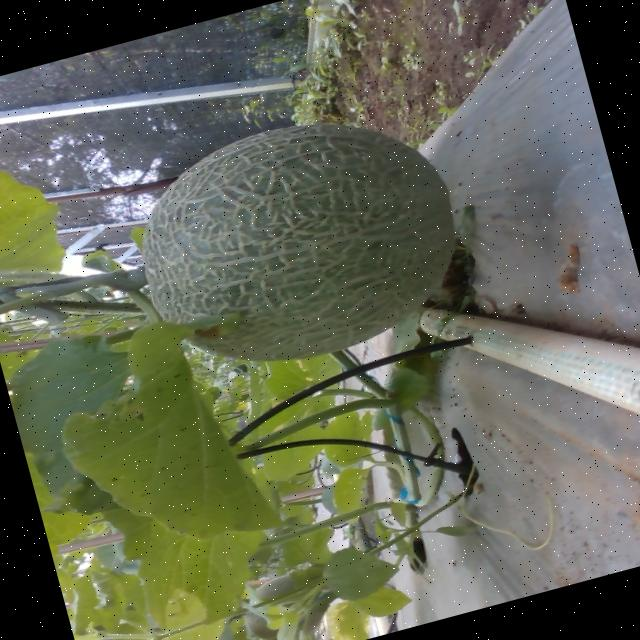melon: (141, 122, 455, 359)
